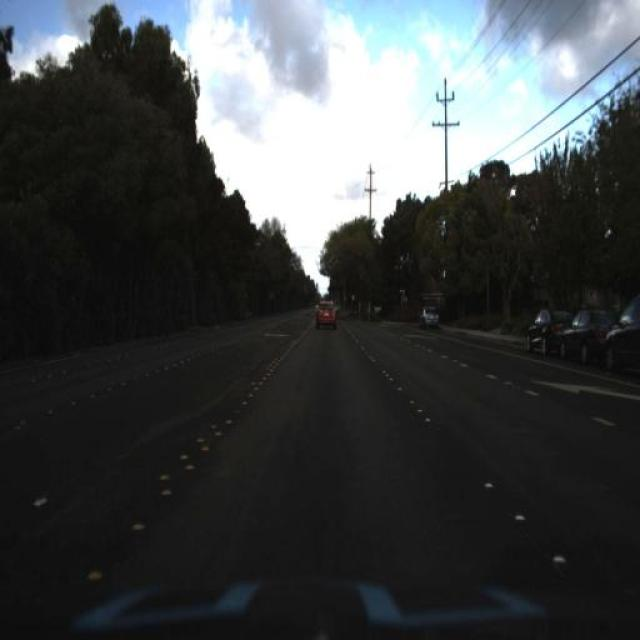car: (560, 304, 619, 366), (600, 297, 640, 378), (523, 304, 566, 358), (312, 292, 340, 338), (417, 302, 439, 332)
